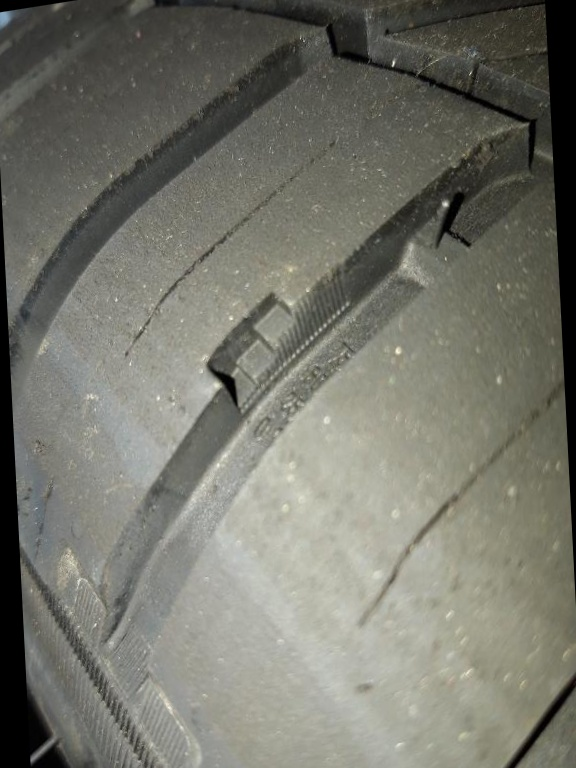temoin:75: (195, 265, 336, 429)
